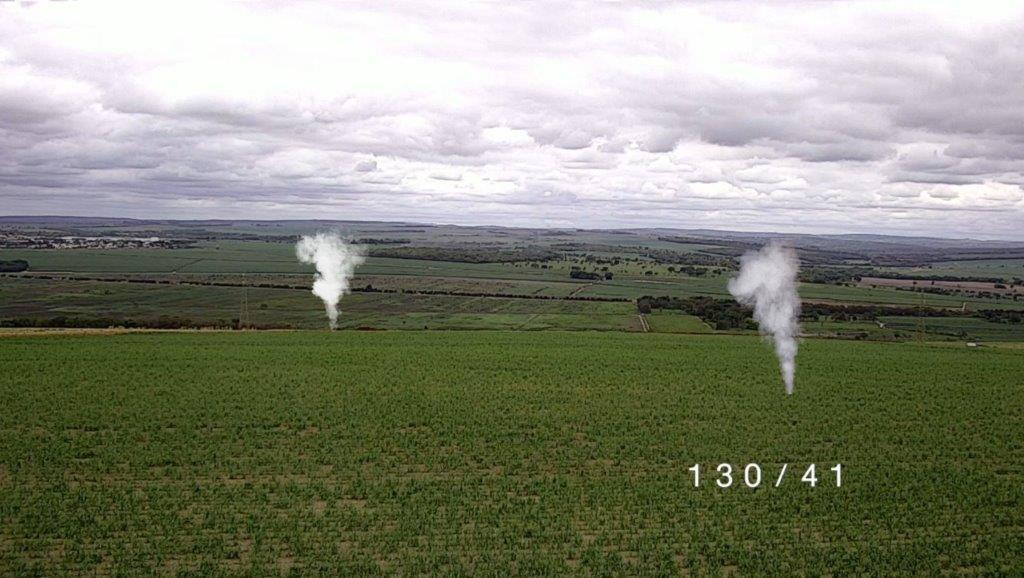smoke: (760, 254, 803, 350), (314, 243, 347, 300)
